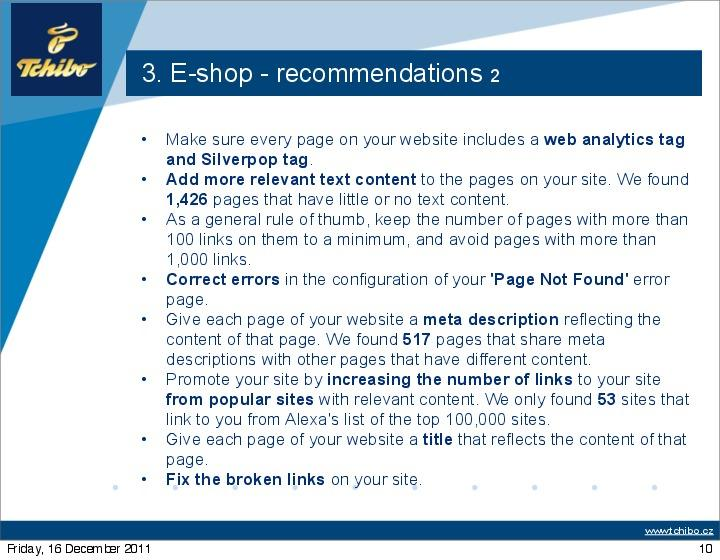paragraph: (133, 118, 710, 492)
title: (137, 51, 523, 102)
